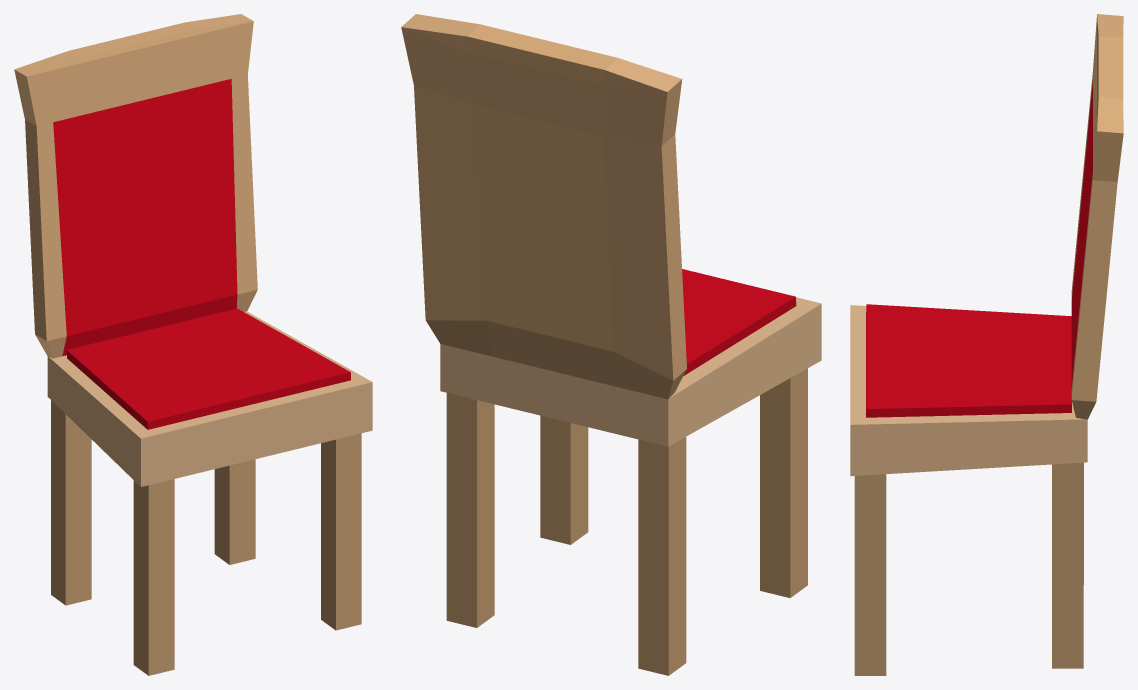
The picture shows the model from 3 angles, left to right: view 1: azimuth 30°, elevation 25°; view 2: azimuth 150°, elevation 25°; view 3: azimuth 270°, elevation 25°; orthographic projection. The views are drawn at different scales.
Parts seen in each view (by area): view 1: Cube.002, Cube, Cube.001; view 2: Cube.002, Cube.001, Cube; view 3: Cube, Cube.002, Cube.001.
Boxes of the visible parts, box(x1,y1,x2,y2) form: Cube.002: box(14, 14, 257, 358); Cube: box(47, 308, 372, 486); Cube.001: box(51, 400, 361, 675); Cube.002: box(401, 14, 686, 399); Cube.001: box(446, 368, 807, 675); Cube: box(440, 269, 821, 446); Cube: box(850, 304, 1087, 476); Cube.002: box(1071, 14, 1123, 419); Cube.001: box(854, 462, 1083, 675).
Bounding box in the file's own units: 179 × 386 × 173.
